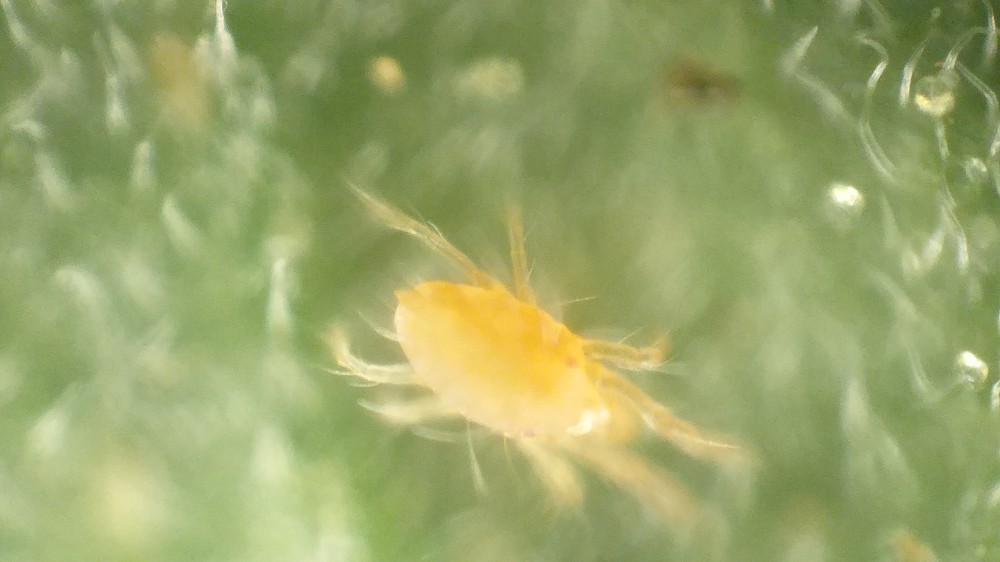Aracnido Rojo: (309, 191, 787, 541)
